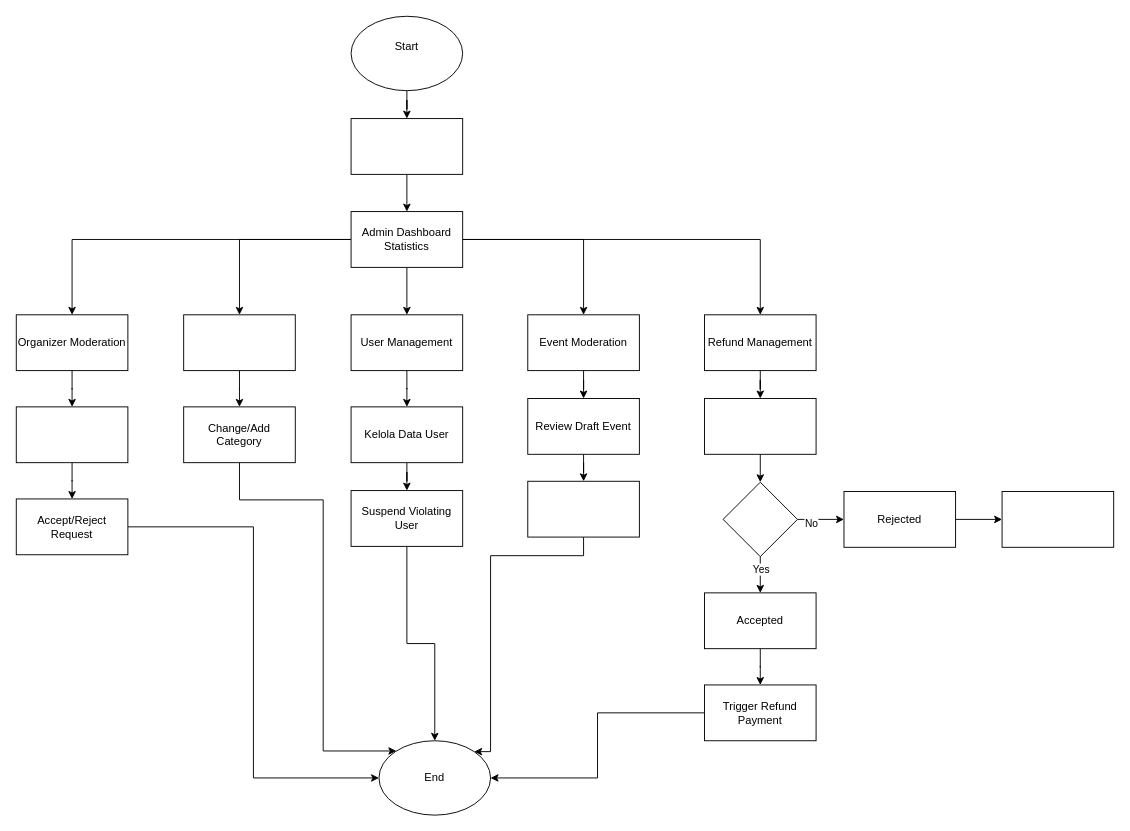
Some shapes in this 1130 by 831 pixel diagram are drawn without their labels. The box of each missing label's shape, as (x1, y1, x2, y2) in pixels:
Accept/Reject: (527, 480, 639, 537)
Category Management: (183, 314, 295, 371)
Login Admin: (350, 118, 463, 174)
Notify User: (1001, 491, 1114, 547)
Refund: (722, 481, 797, 557)
Review Organizer Apply Request: (15, 406, 128, 463)
Review Refund Requestt: (704, 398, 816, 454)
